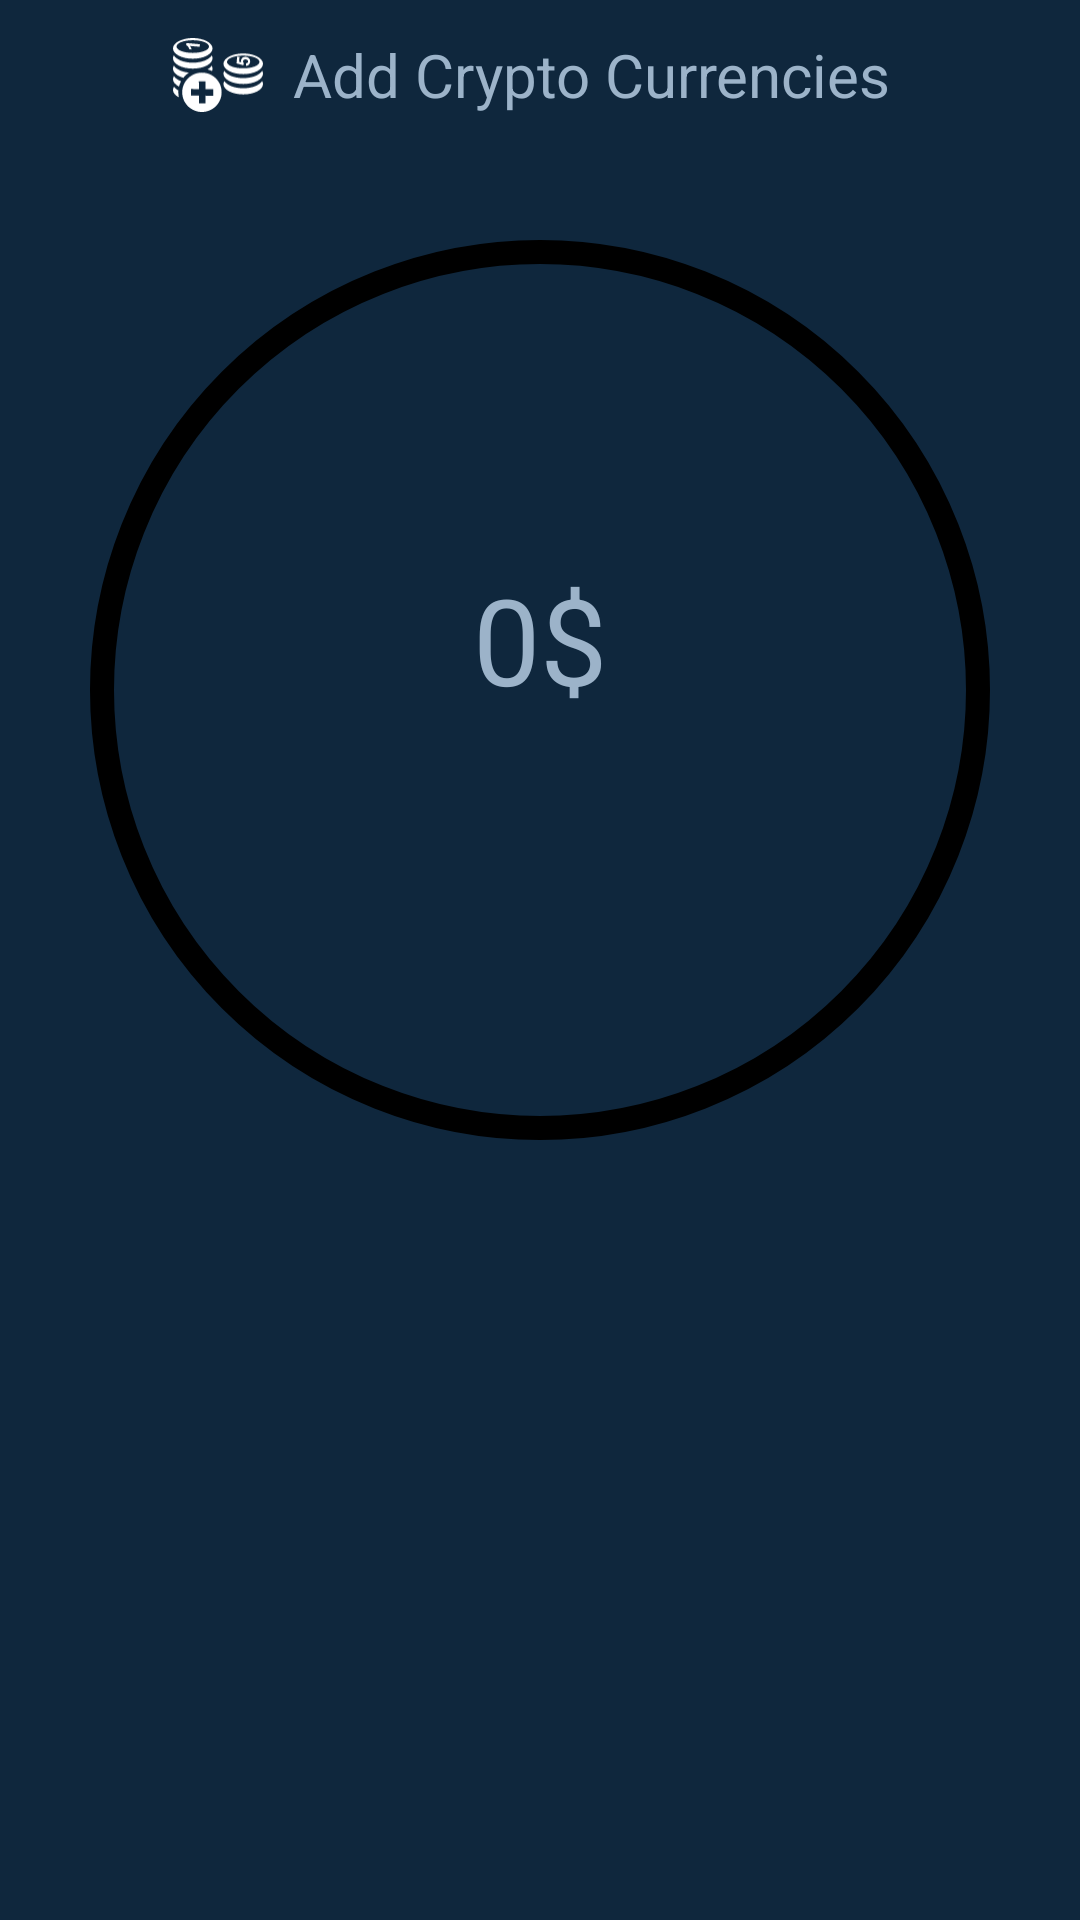

Named icons in this screenshot (1080×1920) and their centers, point (x, y):
add money: point (218, 75)
